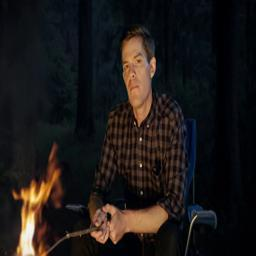fire: (10, 143, 63, 256)
